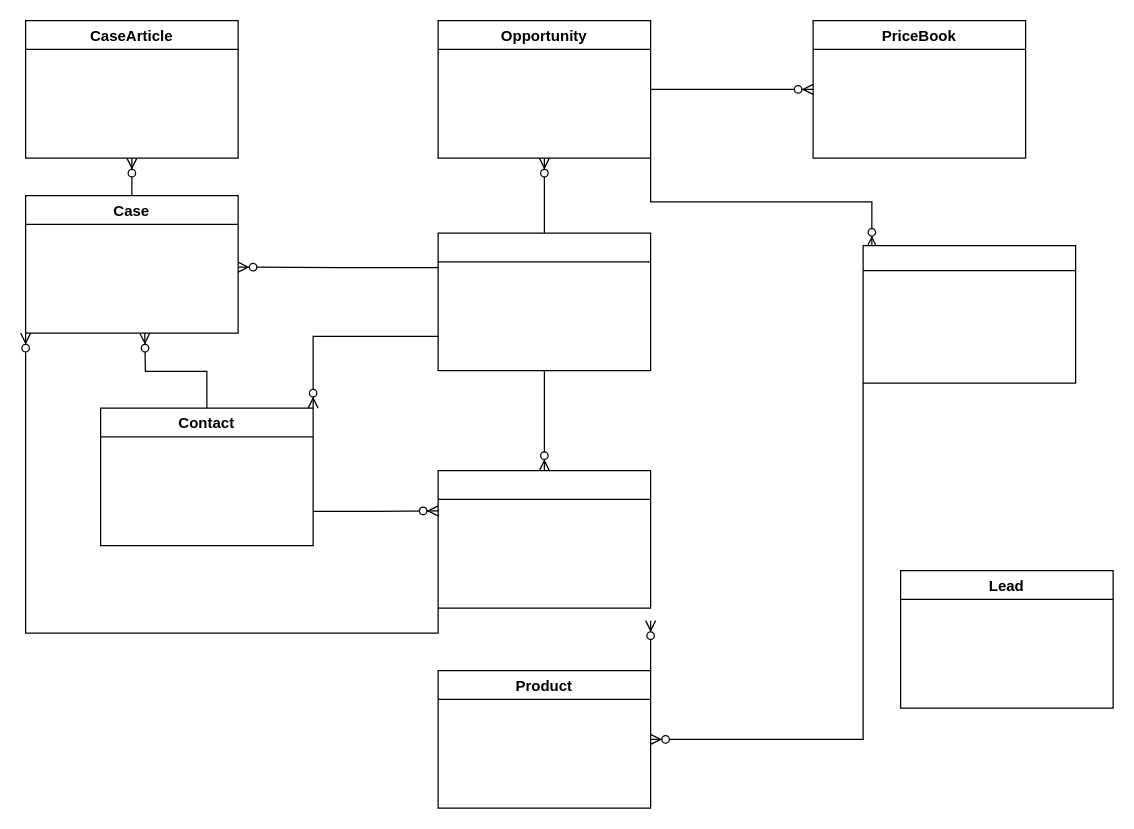
Image size: 1134x829. Some labels were removed from this diagram. The box of each missing label's shape, as (x1, y1, x2, y2) in pixels:
Account: (437, 232, 651, 371)
Asset: (437, 469, 651, 608)
Quote: (862, 244, 1076, 383)
